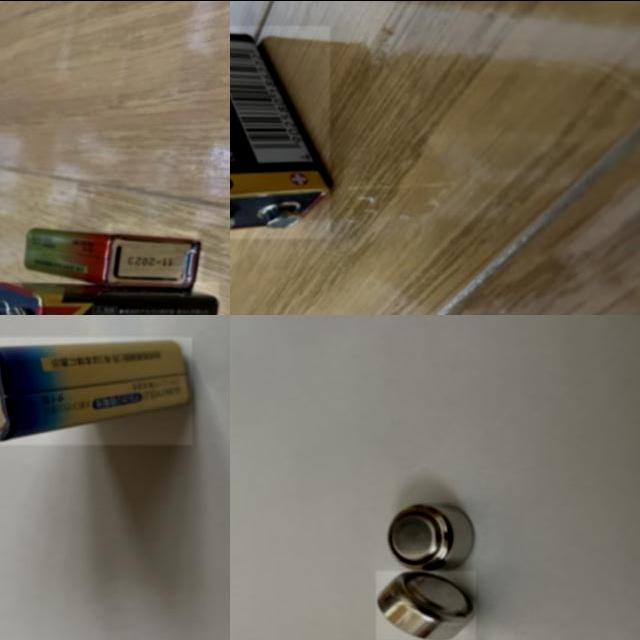9V: (230, 25, 330, 238), (0, 337, 192, 444), (22, 226, 202, 294), (0, 281, 219, 314)
